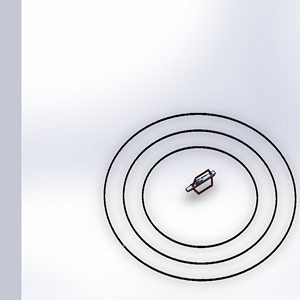circle: (97, 107, 299, 285)
submarine: (179, 163, 229, 207)
